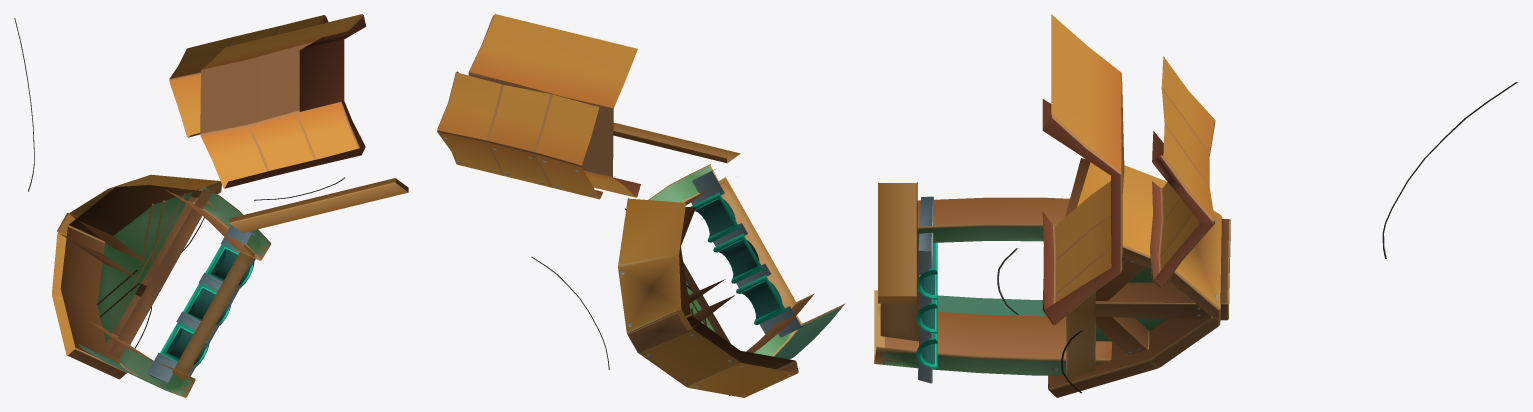
File: ExchangeWood.fbx
3 views of the same model, side by side, from view 1: azimuth 30°, elevation 25°; view 2: azimuth 150°, elevation 25°; view 3: azimuth 270°, elevation 25° (orthographic). The views are drawn at different scales.
Visible parts, largest first — view 1: ExchangeWood; view 2: ExchangeWood; view 3: ExchangeWood.
Boxes of the visible parts, <box> form: ExchangeWood: <box>14,14,408,397</box>; ExchangeWood: <box>437,14,845,397</box>; ExchangeWood: <box>874,14,1517,397</box>.
Size of the model in its own units: 479 by 477 by 607.
